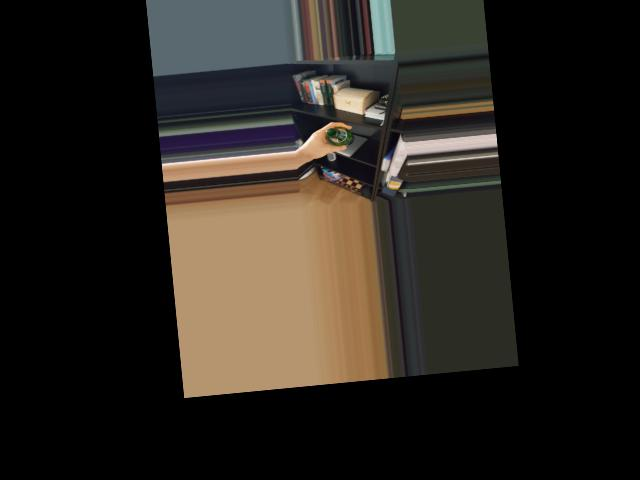beer: (325, 126, 354, 148)
